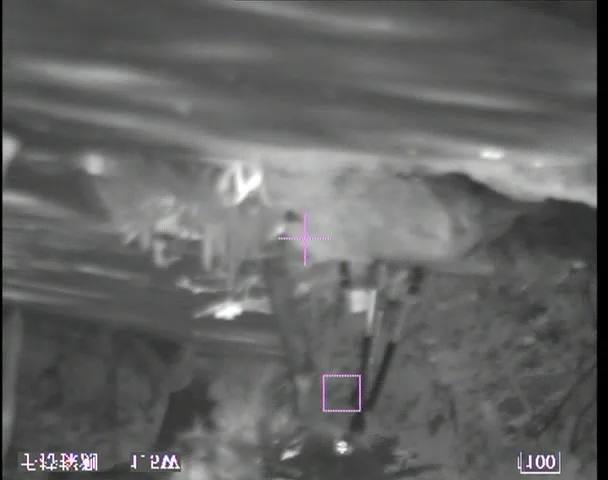my: (335, 440, 349, 456)
